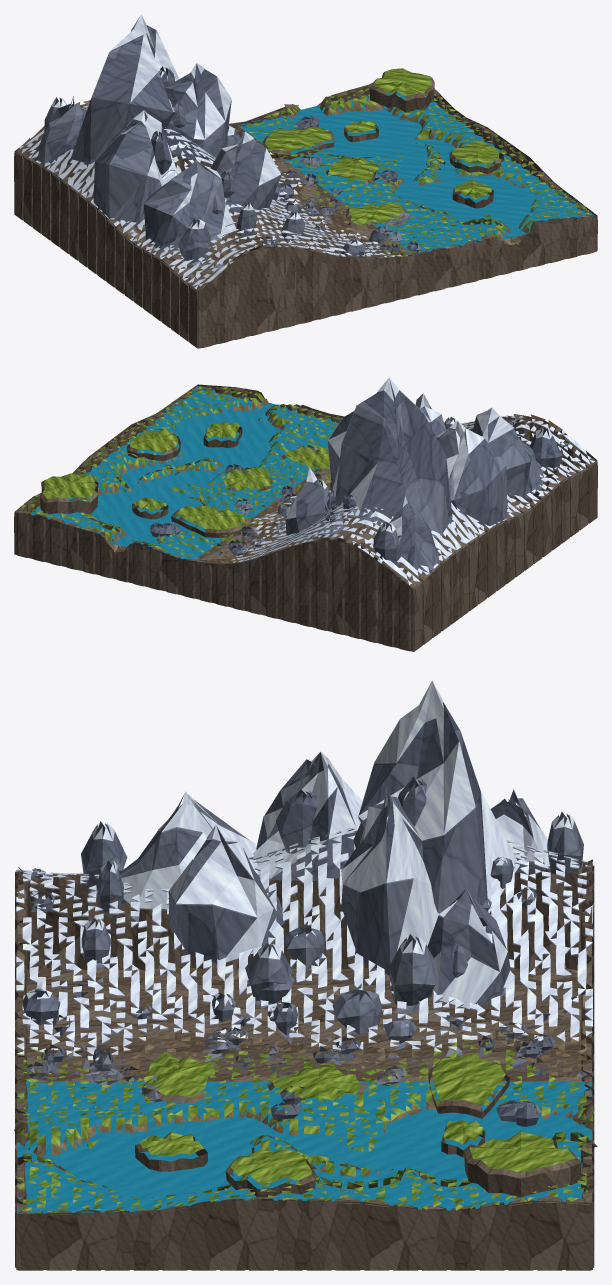
Rendered from longmarch-scene.glb.
3 views of the same model, one above another, from view 1: azimuth 30°, elevation 25°; view 2: azimuth 150°, elevation 25°; view 3: azimuth 270°, elevation 25° (orthographic). The views are drawn at different scales.
Parts seen in each view (by area): view 1: longmarch-scene-complete-environment; view 2: longmarch-scene-complete-environment; view 3: longmarch-scene-complete-environment.
Boxes of the visible parts, <box> form: longmarch-scene-complete-environment: <box>14,14,597,348</box>; longmarch-scene-complete-environment: <box>14,377,597,651</box>; longmarch-scene-complete-environment: <box>14,680,597,1270</box>.
Size of the model in its own units: 1 by 0.5223 by 0.8068.
6 materials, 6 textured.
